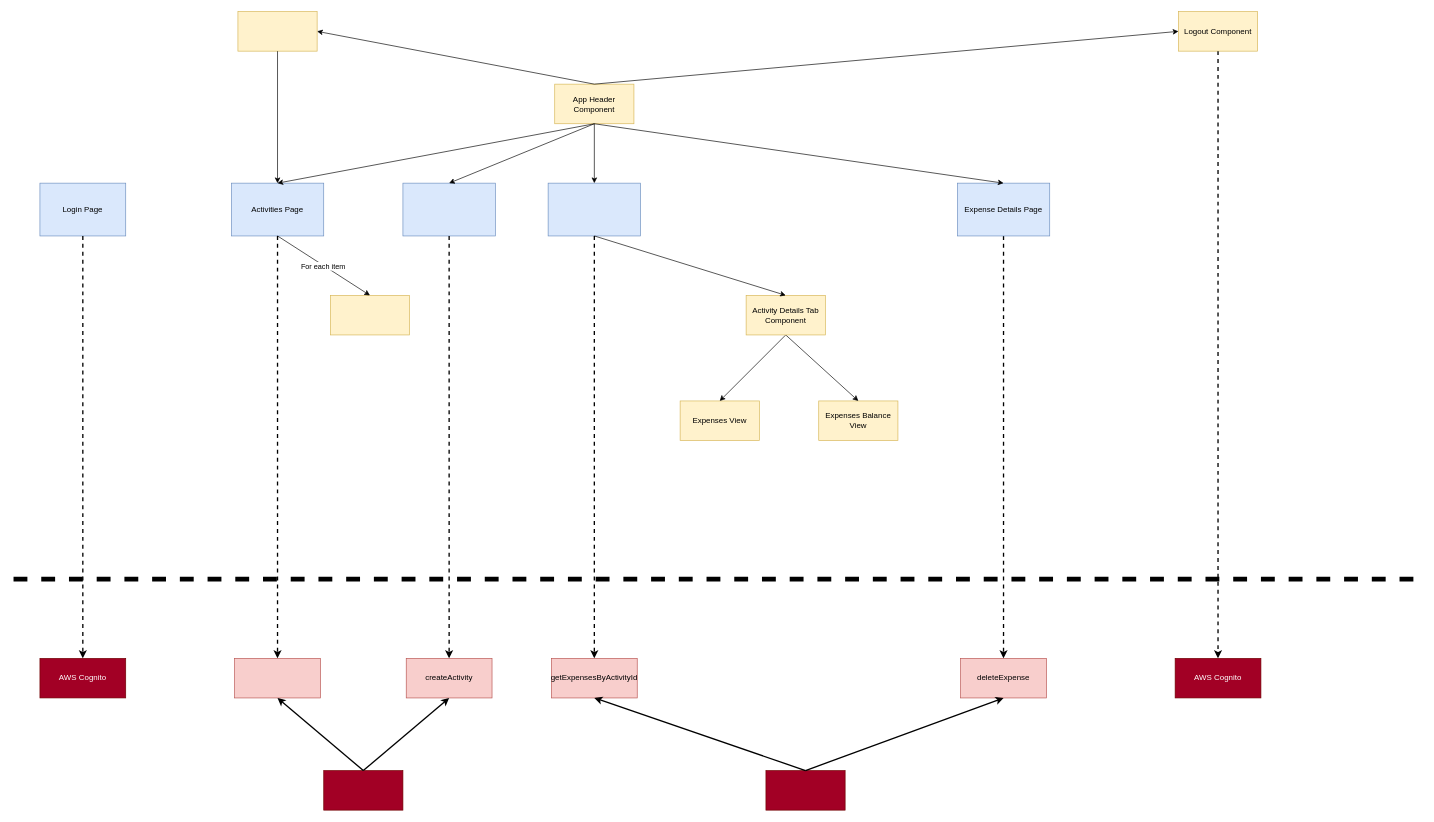
Some shapes in this 1434 by 822 pixel diagram are drawn without their labels. The centre of each missing label's shape, as x and y in pixels:
"Activity Details Page" belongs at [594,209].
"Activity Service" belongs at [363,790].
"Activity Summary Component" belongs at [370,315].
"Add Activity Page" belongs at [448,209].
"Expense Service" belongs at [805,790].
"getActivitiesByUsername" belongs at [277,678].
"Home Header Component" belongs at [277,31].
